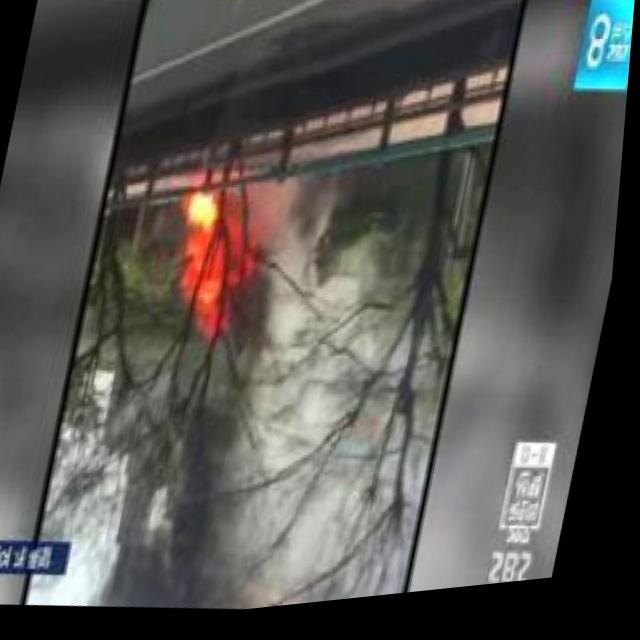Fire: (167, 190, 274, 325)
